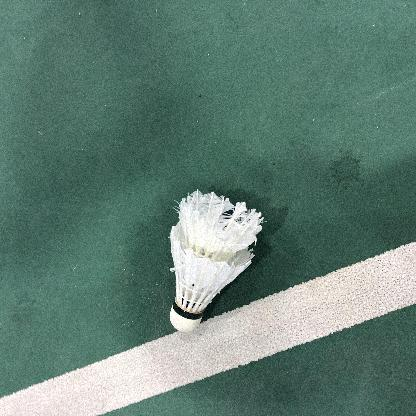ball_single: (170, 190, 264, 332)
